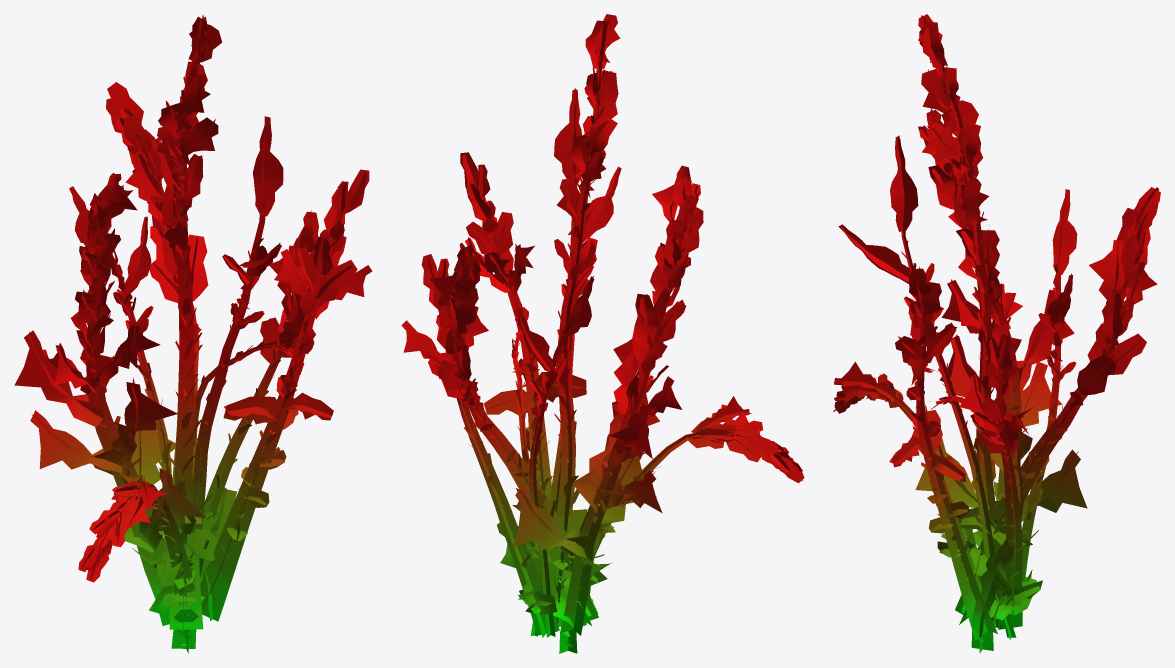
File: F01_Tamarin_02.fbx
3 views of the same model, side by side, from view 1: azimuth 30°, elevation 25°; view 2: azimuth 150°, elevation 25°; view 3: azimuth 270°, elevation 25° (orthographic). The views are drawn at different scales.
Parts seen in each view (by area): view 1: _15e9_Var2_LOD0; view 2: _15e9_Var2_LOD0; view 3: _15e9_Var2_LOD0.
Part boxes in pixels (x1,y1,x2,y2): _15e9_Var2_LOD0: (14,15,372,653); _15e9_Var2_LOD0: (401,14,804,653); _15e9_Var2_LOD0: (833,14,1160,653).
Size of the model in its own units: 50.65 by 94.73 by 44.79.
